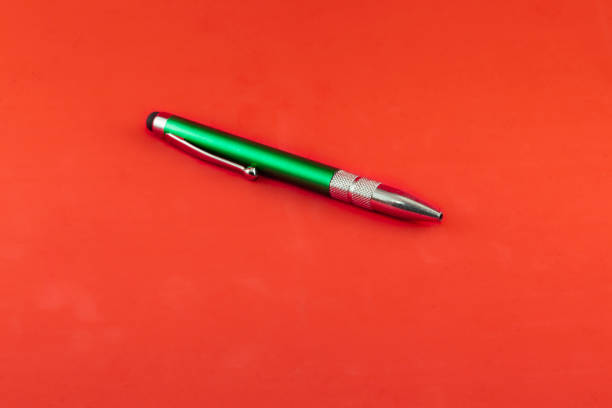pen: (142, 108, 460, 229)
